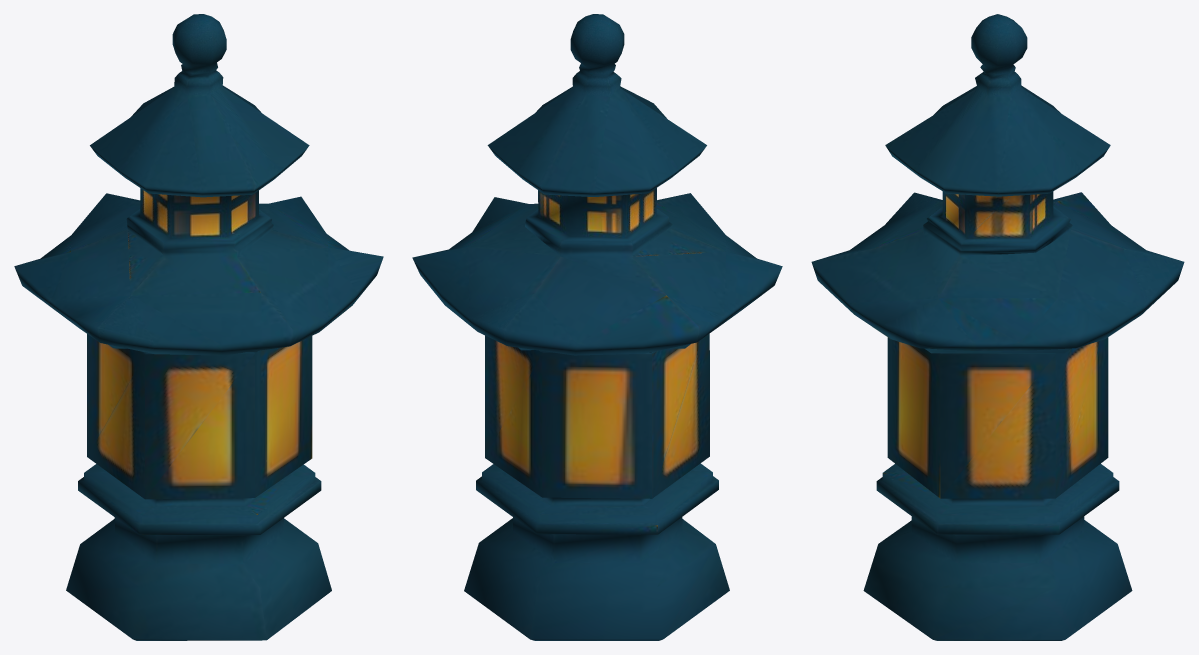
Rendered from lantern.glb.
The picture shows the model from 3 angles, left to right: view 1: azimuth 30°, elevation 25°; view 2: azimuth 150°, elevation 25°; view 3: azimuth 270°, elevation 25°; orthographic projection.
Size of the model in its own units: 0.4937 by 0.9521 by 0.5562.
1 material, 1 textured.
